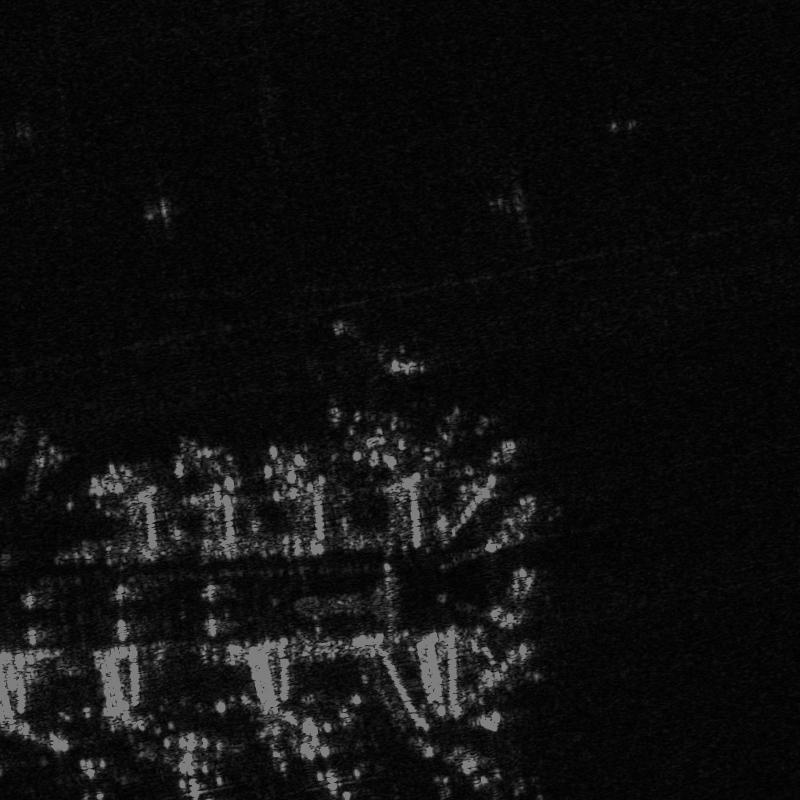A220: (325, 345, 438, 451), (52, 739, 148, 799)
Boeing737: (432, 741, 559, 799)
Boeing787: (148, 746, 238, 799)
